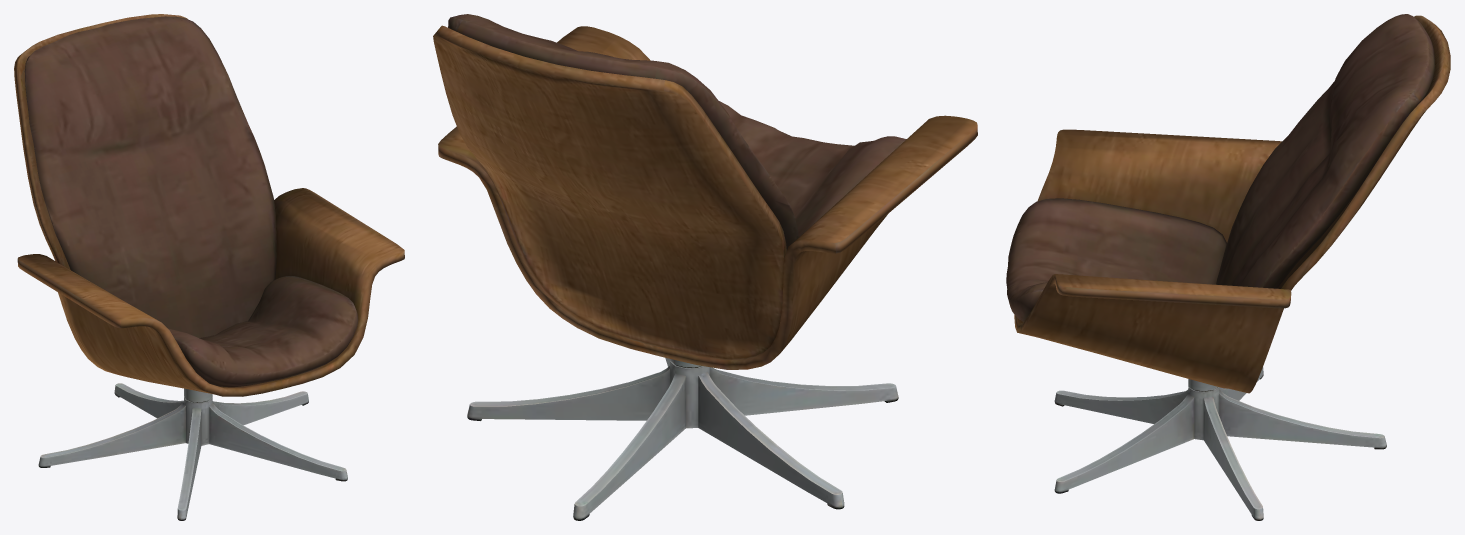
File: mid_century_lounge_chair.glb
The picture shows the model from 3 angles, left to right: view 1: azimuth 30°, elevation 25°; view 2: azimuth 150°, elevation 25°; view 3: azimuth 270°, elevation 25°; orthographic projection. The views are drawn at different scales.
Visible parts, largest first — view 1: mid_century_lounge_chair; view 2: mid_century_lounge_chair; view 3: mid_century_lounge_chair.
Boxes of the visible parts, x1,y1,x2,y2 form: mid_century_lounge_chair: (14,14,404,520); mid_century_lounge_chair: (433,14,977,520); mid_century_lounge_chair: (1006,14,1450,520).
Size of the model in its own units: 1.01 by 1.17 by 1.19.
Materials: 1 (1 with a texture image).
